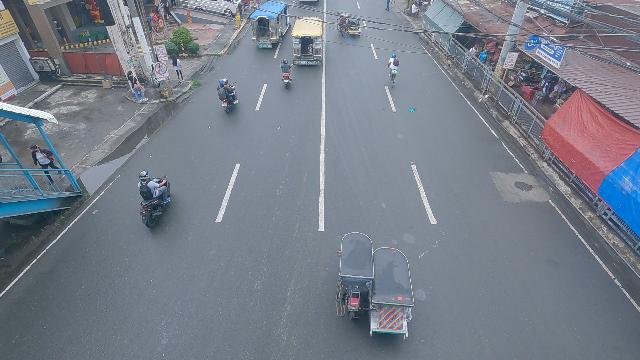jeepney: (249, 1, 292, 48), (292, 15, 324, 67)
motorcycle: (136, 172, 172, 231), (218, 79, 238, 114), (279, 59, 293, 89)
